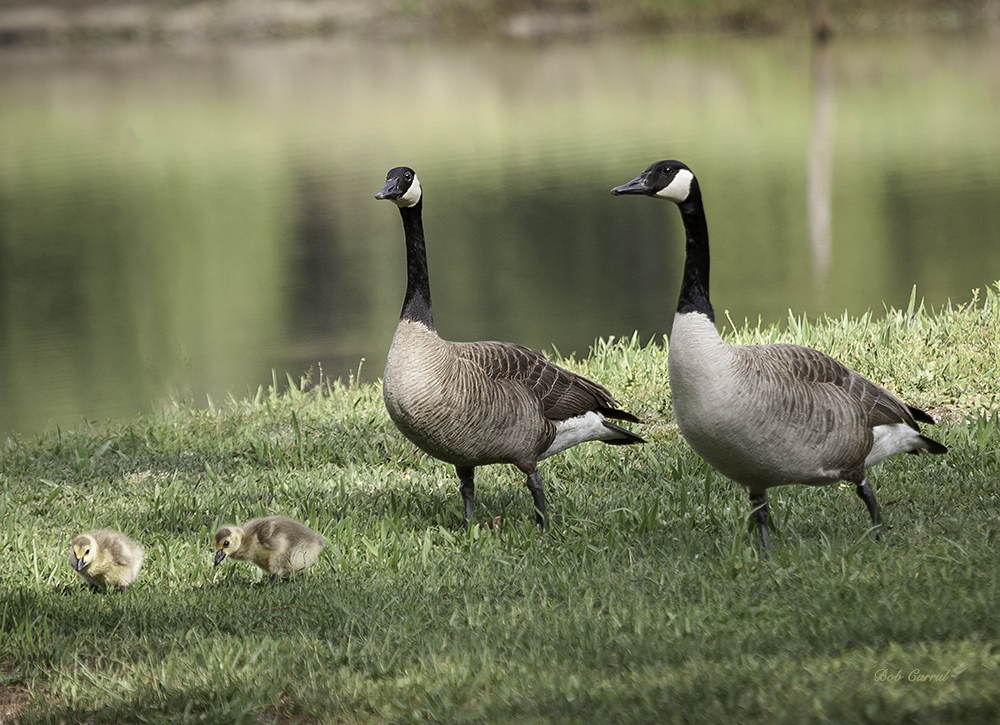goose: (609, 157, 952, 547), (372, 164, 648, 535)
